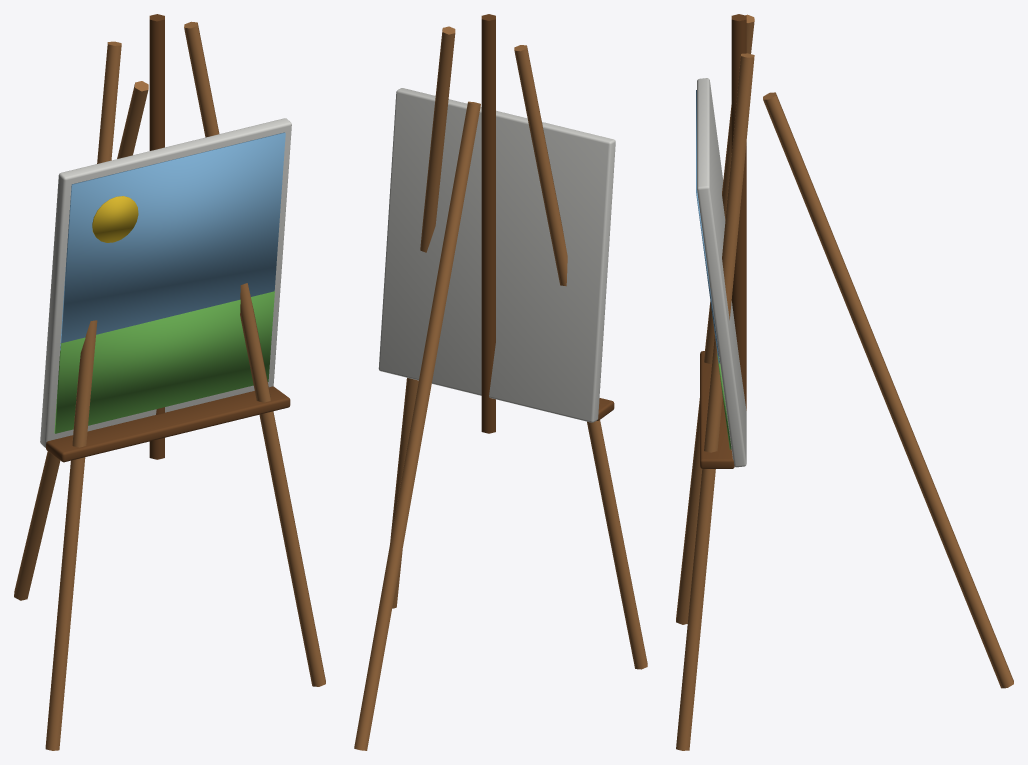
Rendered from easel.glb.
3 views of the same model, side by side, from view 1: azimuth 30°, elevation 25°; view 2: azimuth 150°, elevation 25°; view 3: azimuth 270°, elevation 25° (orthographic). The views are drawn at different scales.
Visible parts, largest first — view 1: easel; view 2: easel; view 3: easel.
Part boxes in pixels (box(x1,y1,x2,y2)): easel: box(14, 14, 325, 750); easel: box(354, 14, 647, 750); easel: box(676, 14, 1013, 750).
Bounding box in the file's own units: 0.7356 × 1.71 × 0.7803.
